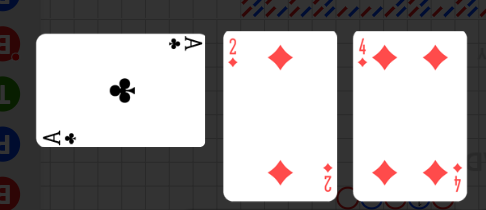2D: (227, 36, 239, 69), (322, 161, 334, 193)
AC: (41, 128, 79, 145)
